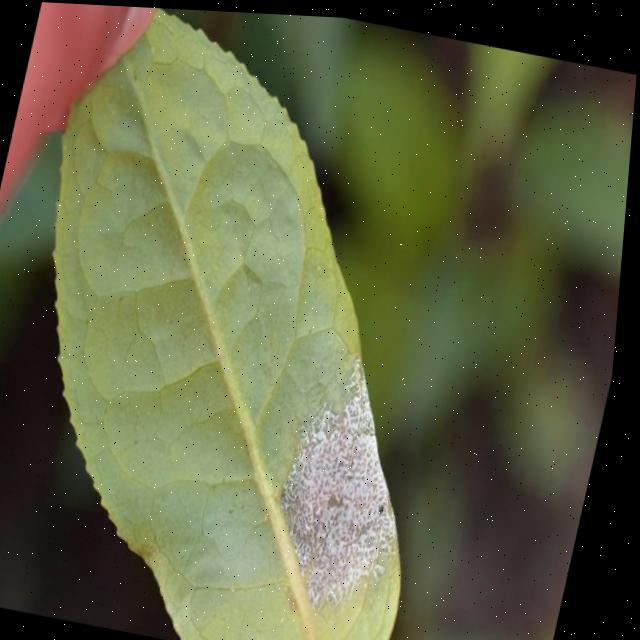Tea exobasidium blight: (265, 340, 444, 612)
